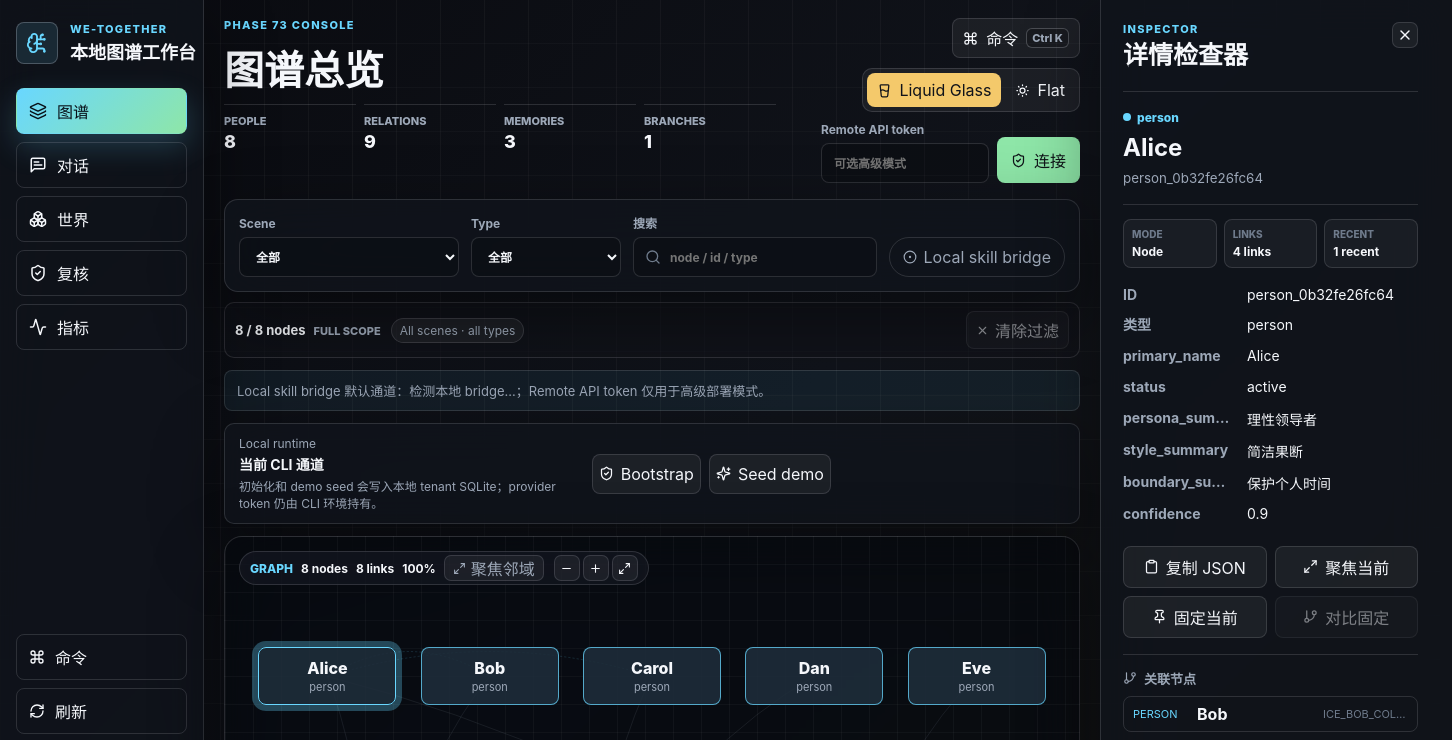
Test: WeTogether WebUI › supports keyboard shortcuts for search, escape, and fit view
Type keys "/"
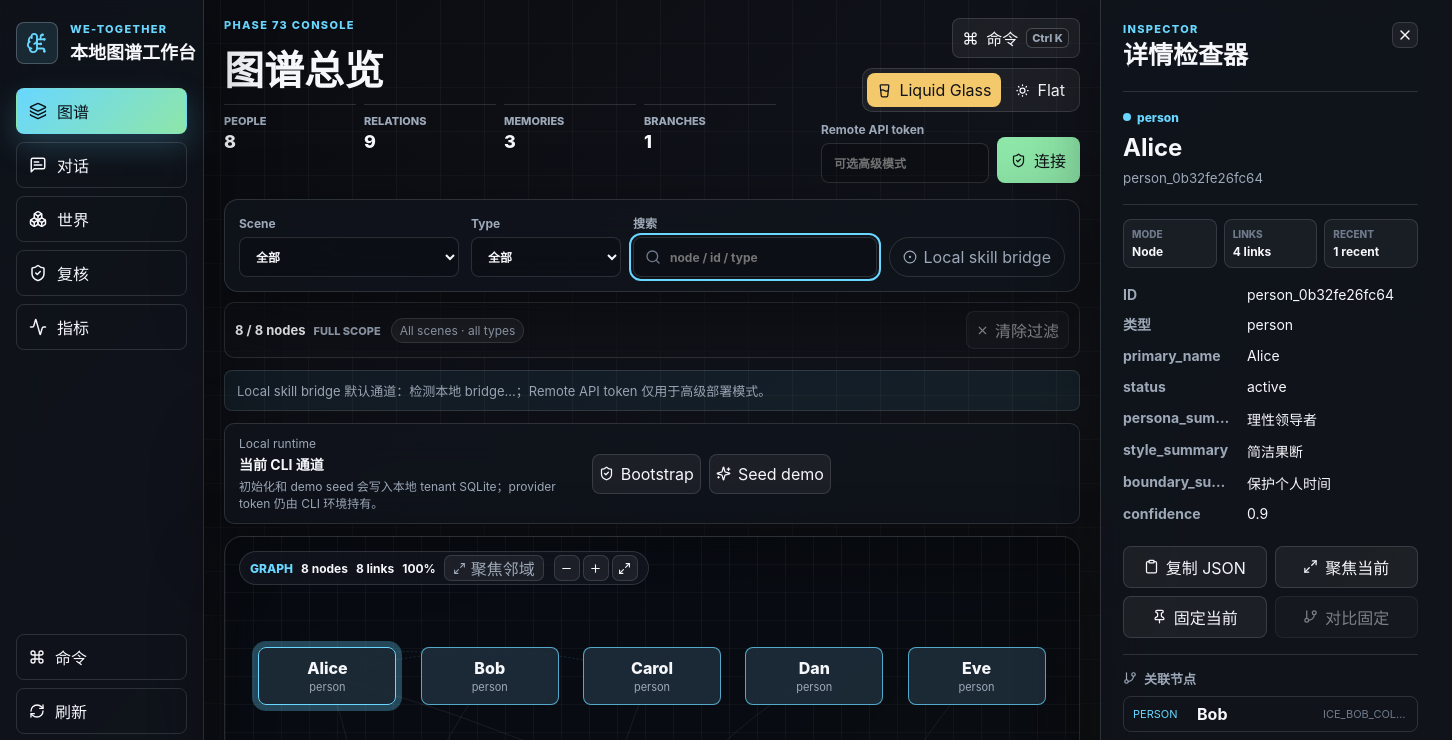
Type keys "Bob"
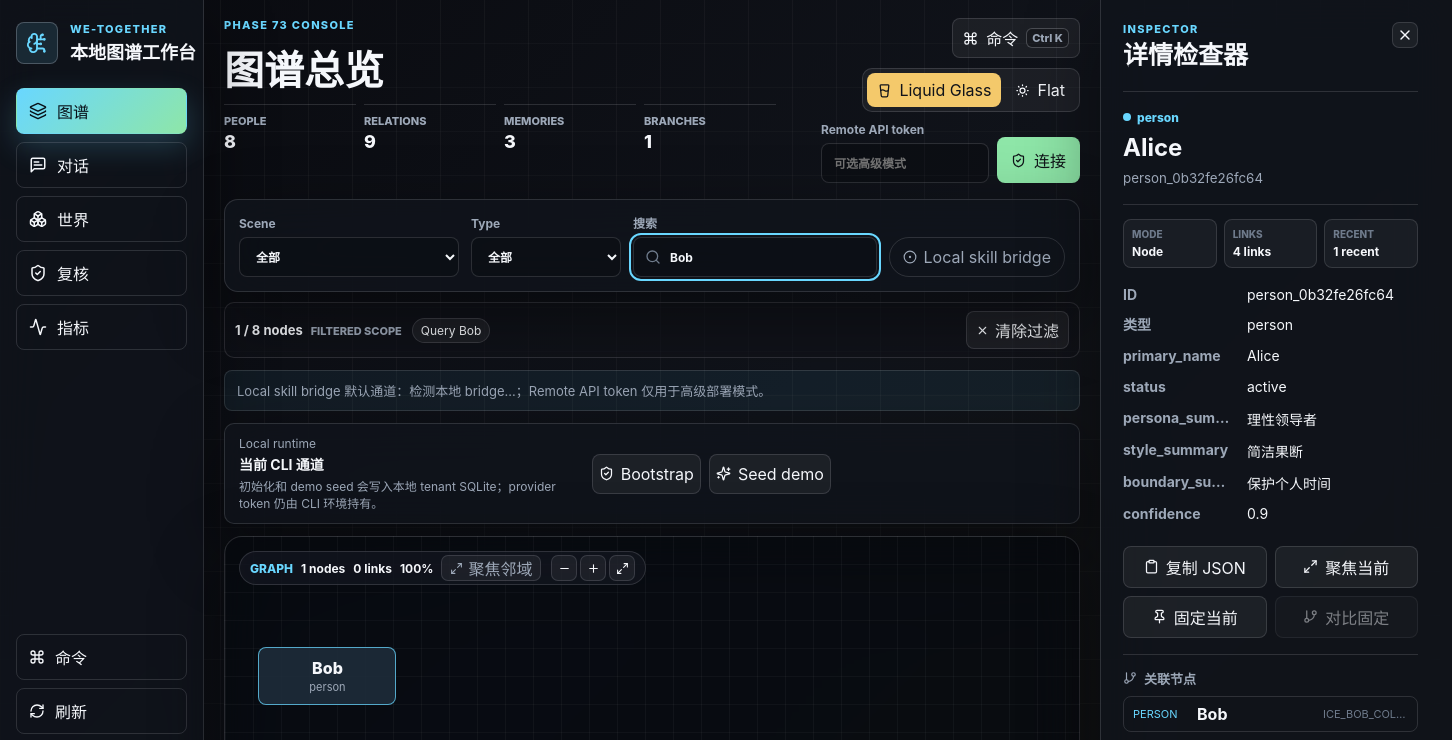
Expected: the field labelled "搜索" holds "Bob", [633,237,877,277]
Press Escape
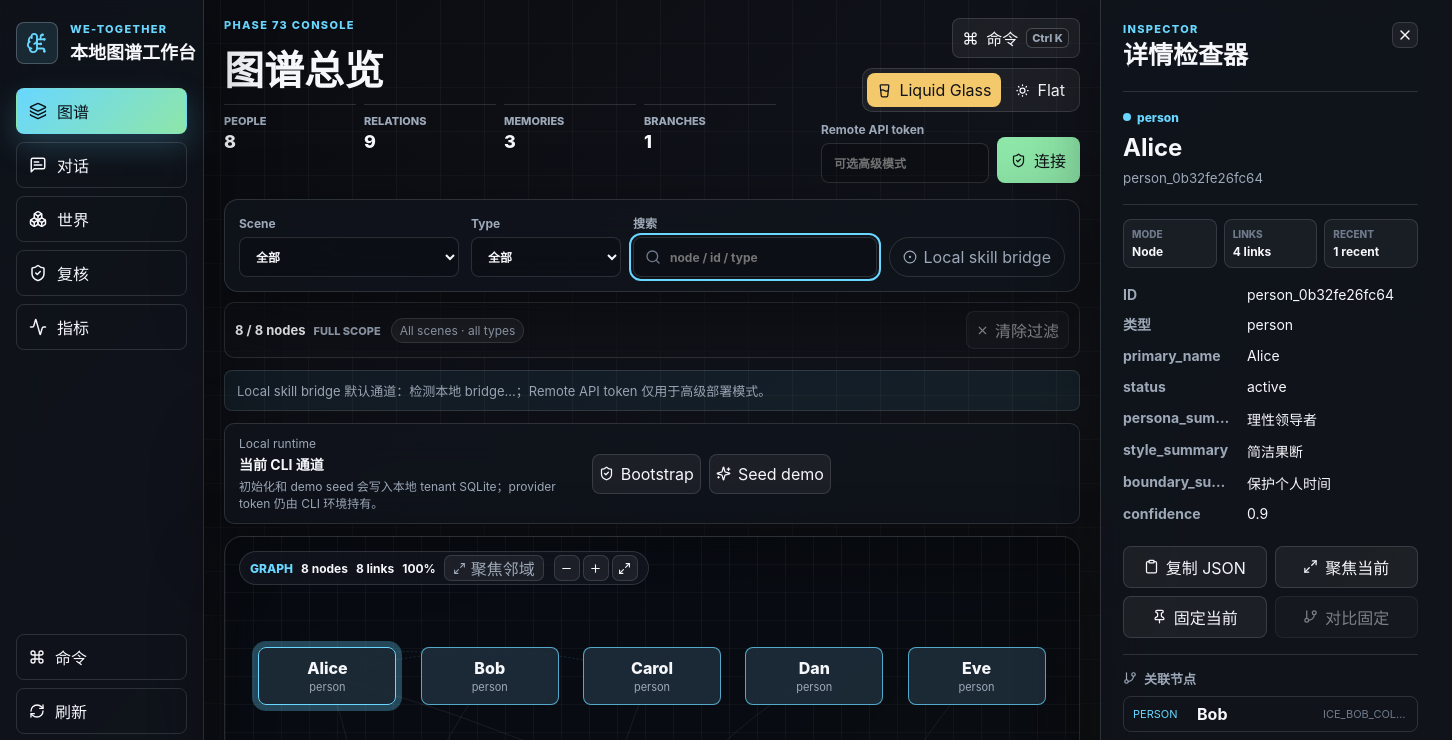
Expected: the field labelled "搜索" is empty, [633,237,877,277]
Click the button named "放大图谱": (596, 568) [583,555,609,581]
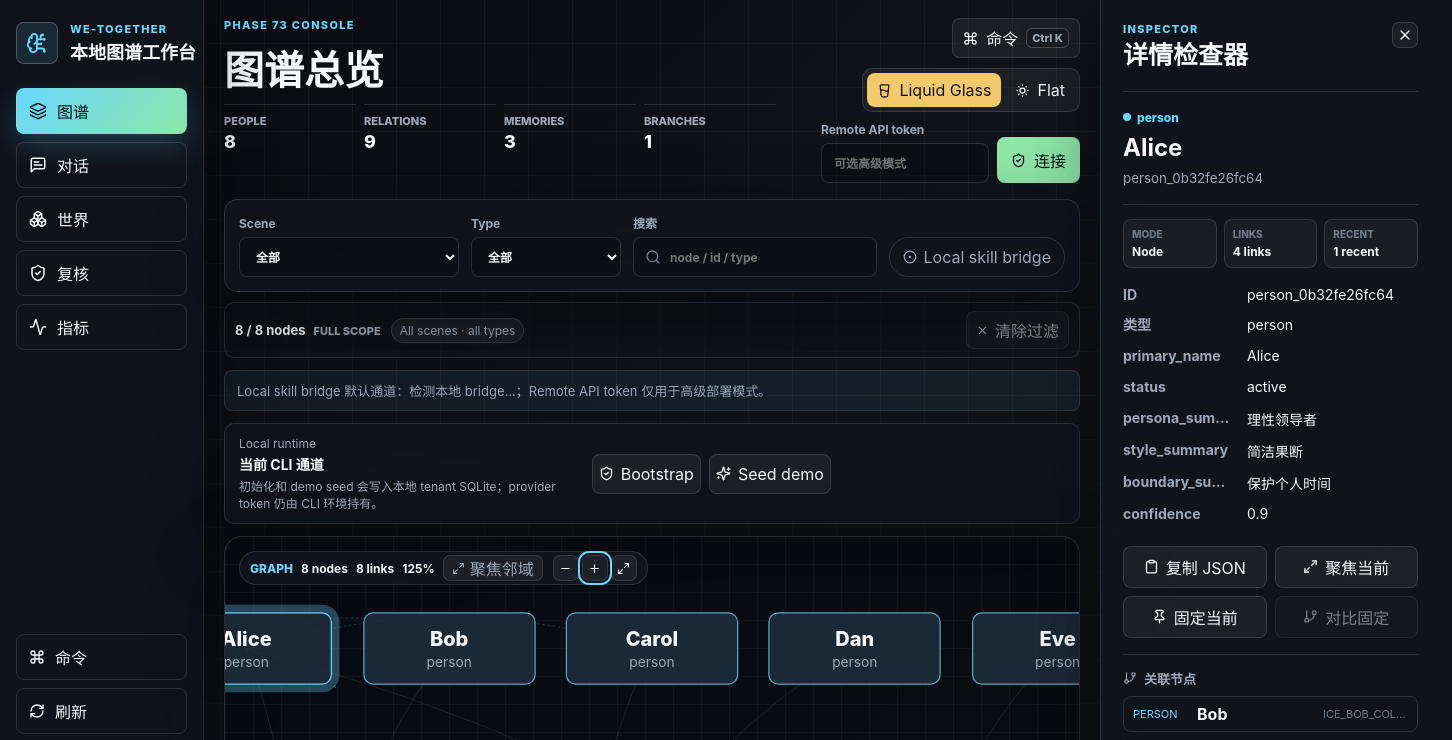
Expected: the text "125%" is shown, [402,560,435,576]
Type keys "f"
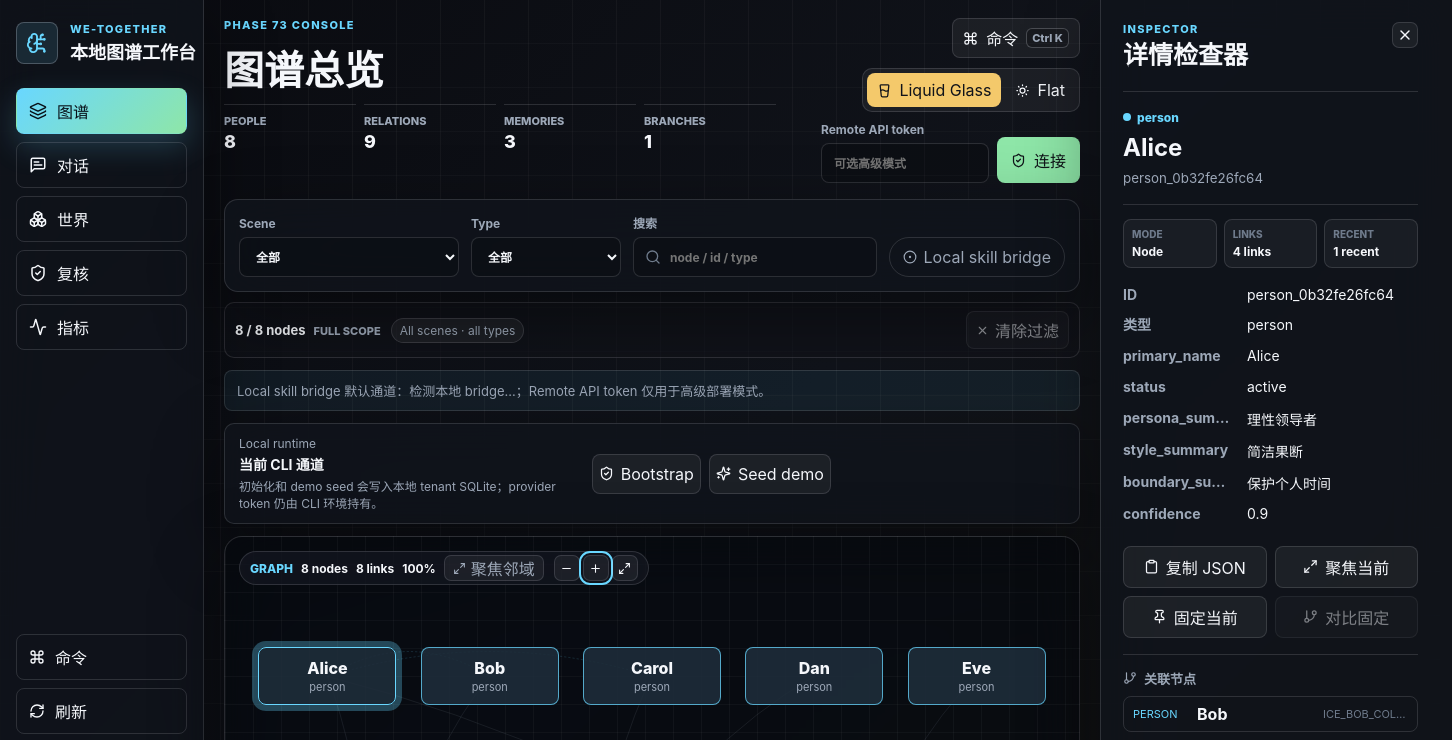
Expected: the text "100%" is shown, [402,560,436,576]
